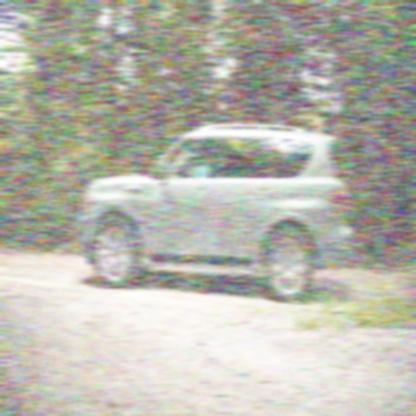Vehicle: (73, 120, 357, 304)
